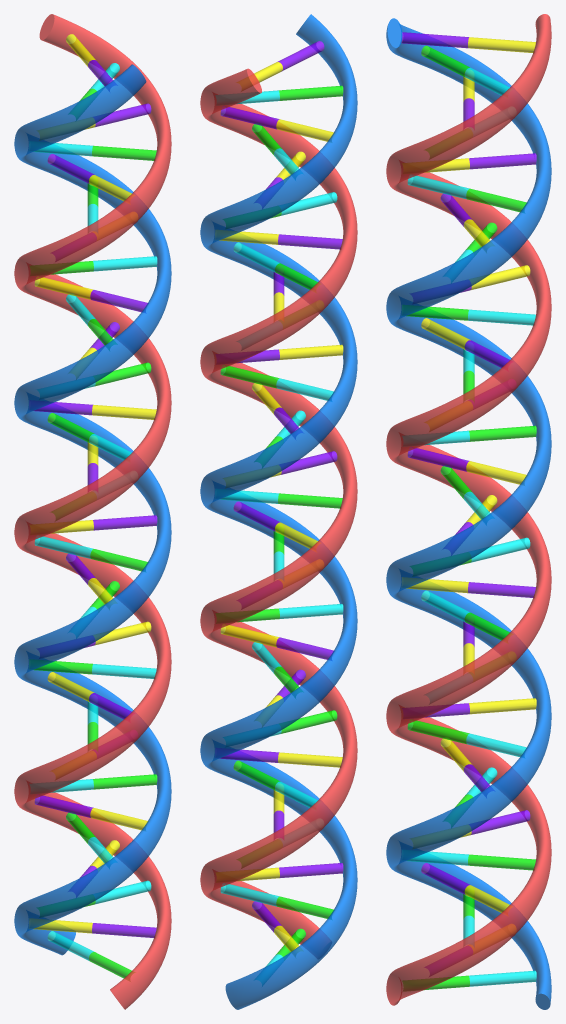
The model's file is dna.glb.
The picture shows the model from 3 angles, left to right: view 1: azimuth 30°, elevation 25°; view 2: azimuth 150°, elevation 25°; view 3: azimuth 270°, elevation 25°; orthographic projection. The views are drawn at different scales.
Visible parts, largest first — view 1: DNA; view 2: DNA; view 3: DNA.
Boxes of the visible parts, x1,y1,x2,y2 form: DNA: (14, 14, 171, 1009); DNA: (200, 14, 357, 1009); DNA: (386, 14, 551, 1009).
Bounding box in the file's own units: 0.1188 × 0.7862 × 0.1188.
